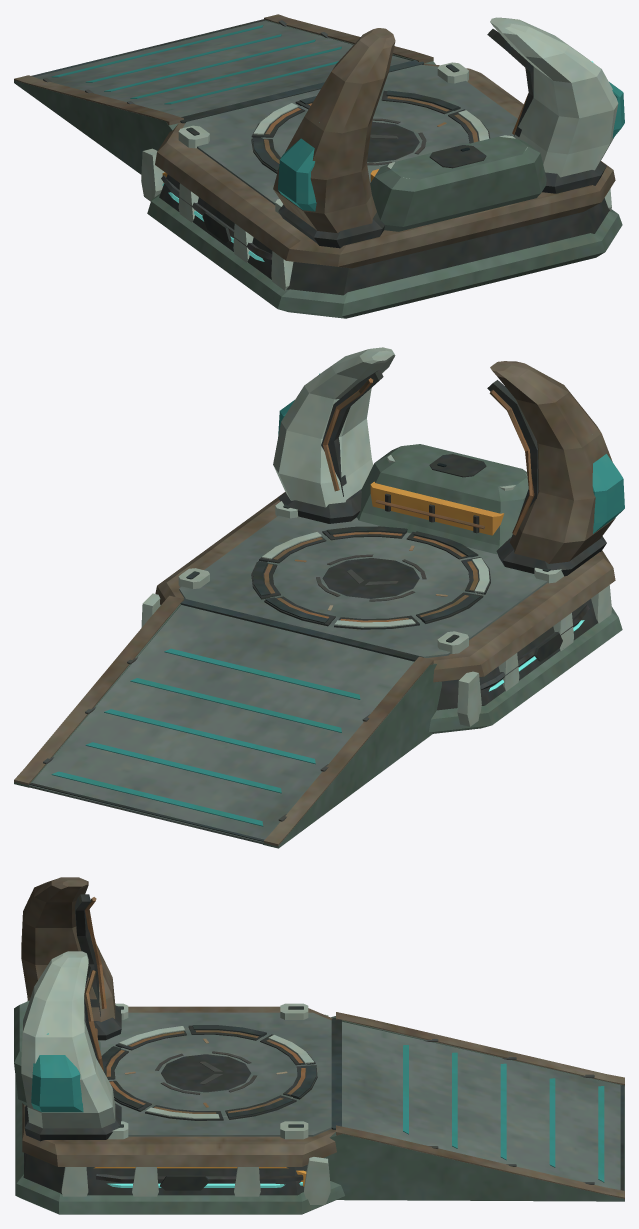
Rendered from NR01_Purifier_LOD2.obj.
3 renders of one model, top to bottom at view 1: azimuth 30°, elevation 25°; view 2: azimuth 150°, elevation 25°; view 3: azimuth 270°, elevation 25°, orthographic. The views are drawn at different scales.
Parts seen in each view (by area): view 1: NR01_Purifier_LOD2; view 2: NR01_Purifier_LOD2; view 3: NR01_Purifier_LOD2.
Part boxes in pixels (<box>): NR01_Purifier_LOD2: <box>14,14,624,318</box>; NR01_Purifier_LOD2: <box>14,347,624,848</box>; NR01_Purifier_LOD2: <box>14,877,624,1214</box>.
Size of the model in its own units: 3.13 by 2.15 by 5.16.
